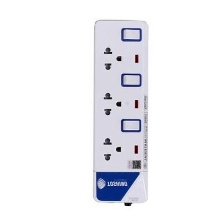three_eye_plug: (90, 18, 151, 206)
